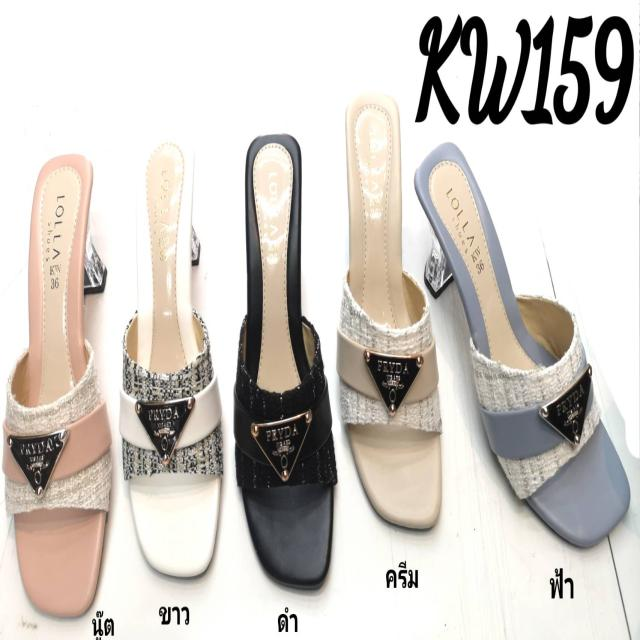black: (238, 136, 334, 594)
blue: (413, 141, 624, 544)
cream: (334, 100, 442, 524)
nood: (8, 149, 106, 615)
white: (125, 135, 222, 575)
